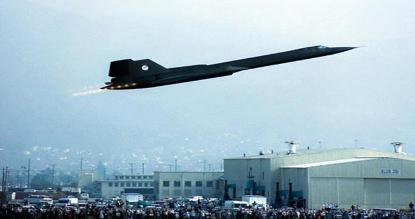Rafale: (98, 44, 369, 90)
